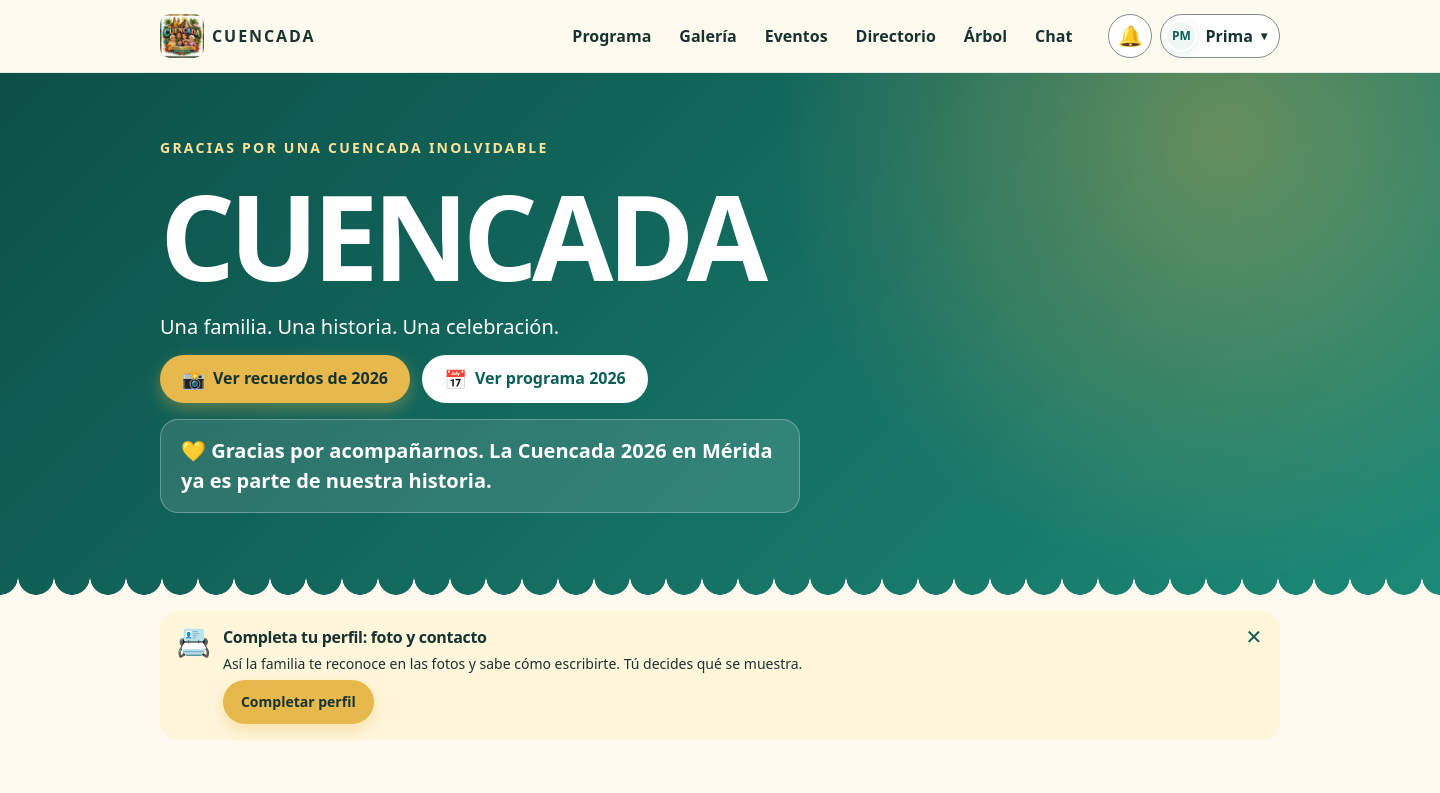
AccountMenu › goes to the Contacto section of Mi perfil and closes
What coordinates should you click on to do the following:
click the button with aria-label "Mi cuenta"
I would click on:
 (1220, 36)
Its box is 1160,14 -> 1280,58.
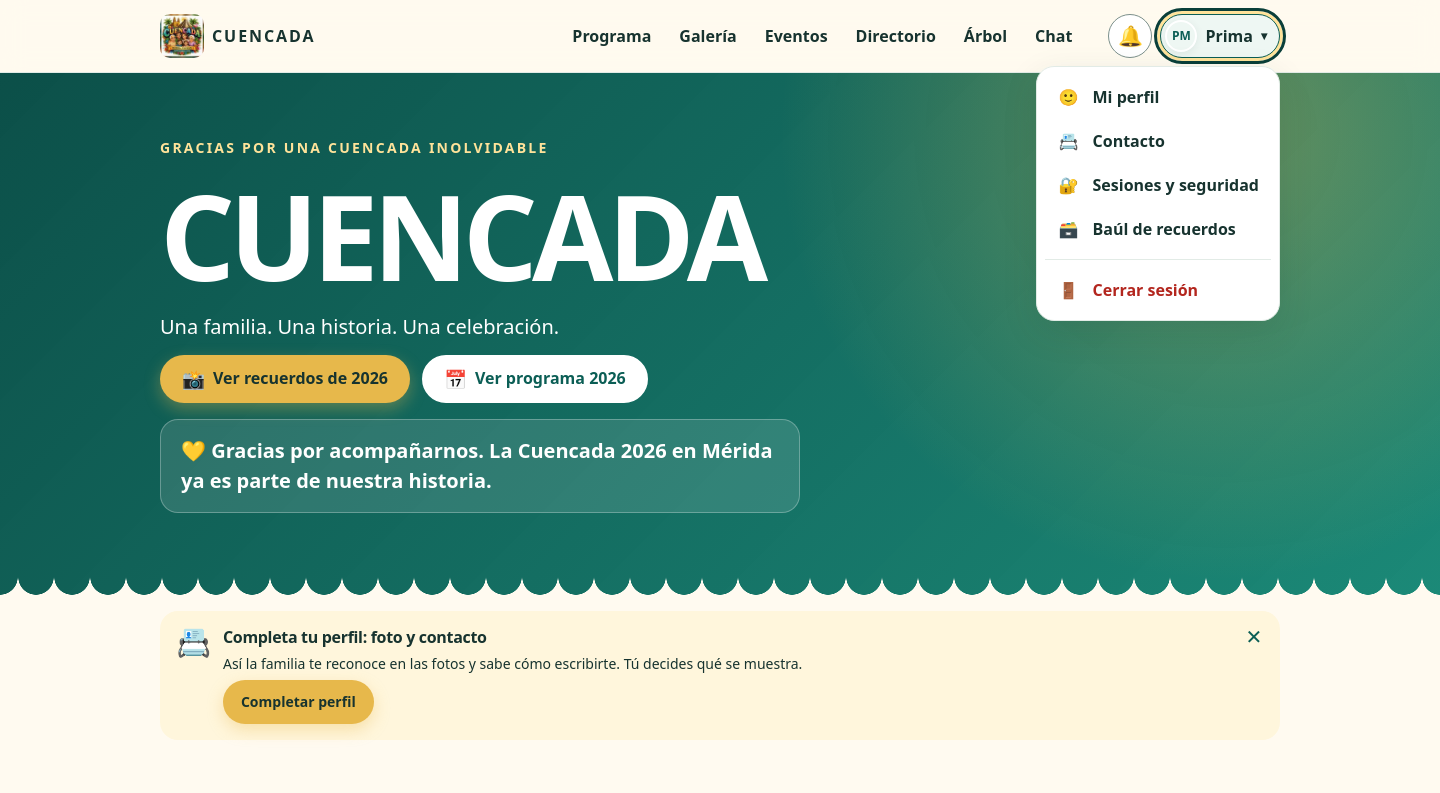
What coordinates should you click on to do the following:
click the link "📇 Contacto"
I would click on:
 (1112, 141)
Its box is 1058,130 -> 1165,152.
(page scrolled)
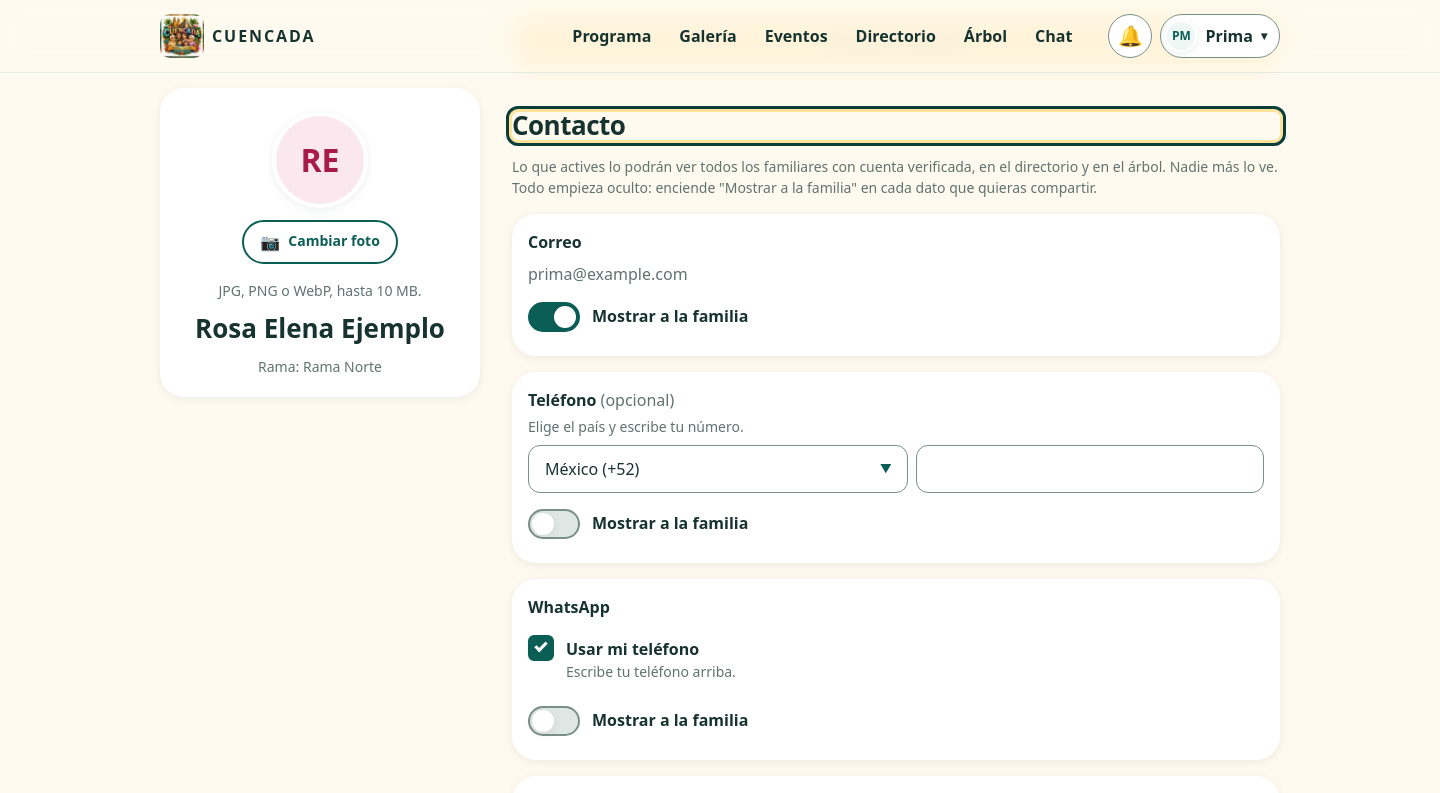
Expected: the button with aria-label "Mi cuenta" is collapsed, 1160,14 -> 1280,58
